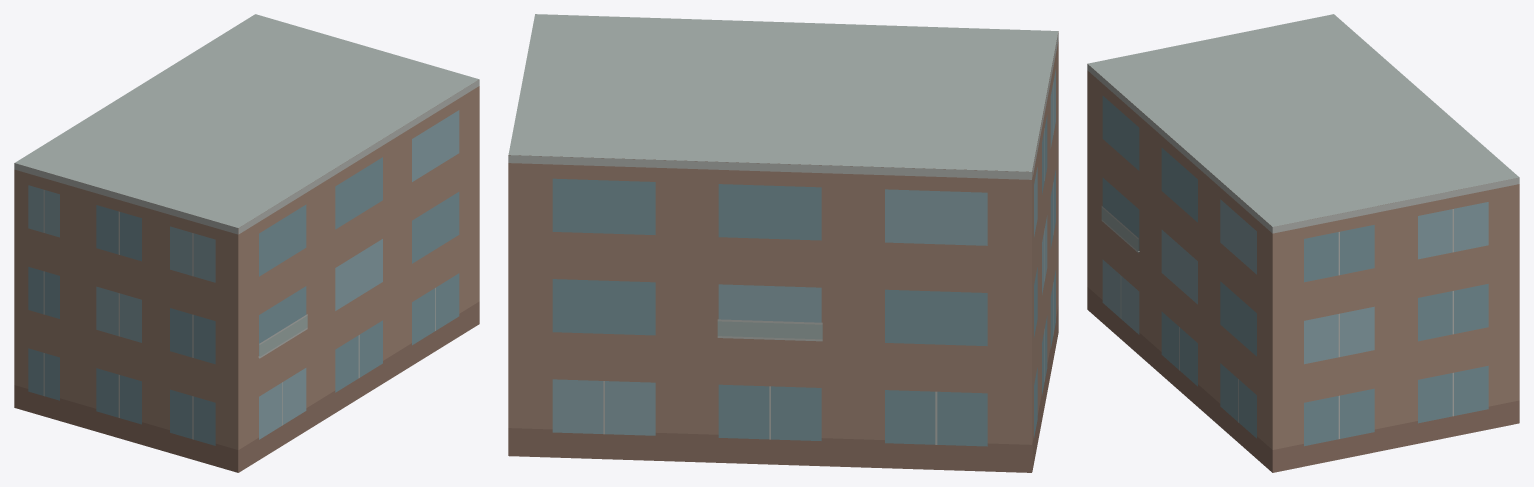
The model's file is survey-upis-32698033.glb.
The picture shows the model from 3 angles, left to right: view 1: azimuth 30°, elevation 25°; view 2: azimuth 150°, elevation 25°; view 3: azimuth 270°, elevation 25°; orthographic projection. The views are drawn at different scales.
Parts seen in each view (by area): view 1: survey-upis-32698033.tmp; view 2: survey-upis-32698033.tmp; view 3: survey-upis-32698033.tmp.
Boxes of the visible parts, bbox=[...] form: survey-upis-32698033.tmp: bbox=[14, 14, 479, 472]; survey-upis-32698033.tmp: bbox=[508, 14, 1058, 472]; survey-upis-32698033.tmp: bbox=[1087, 14, 1519, 472].
Size of the model in its own units: 17.01 by 9.15 by 14.59.
